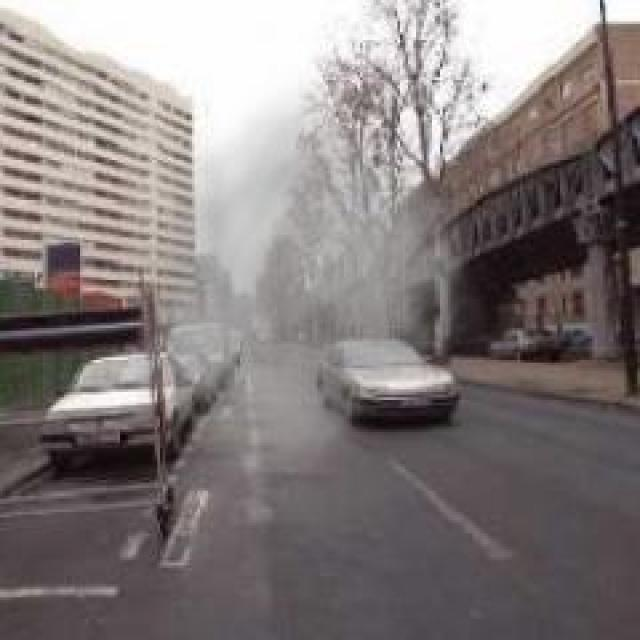smoke: (138, 68, 506, 492)
